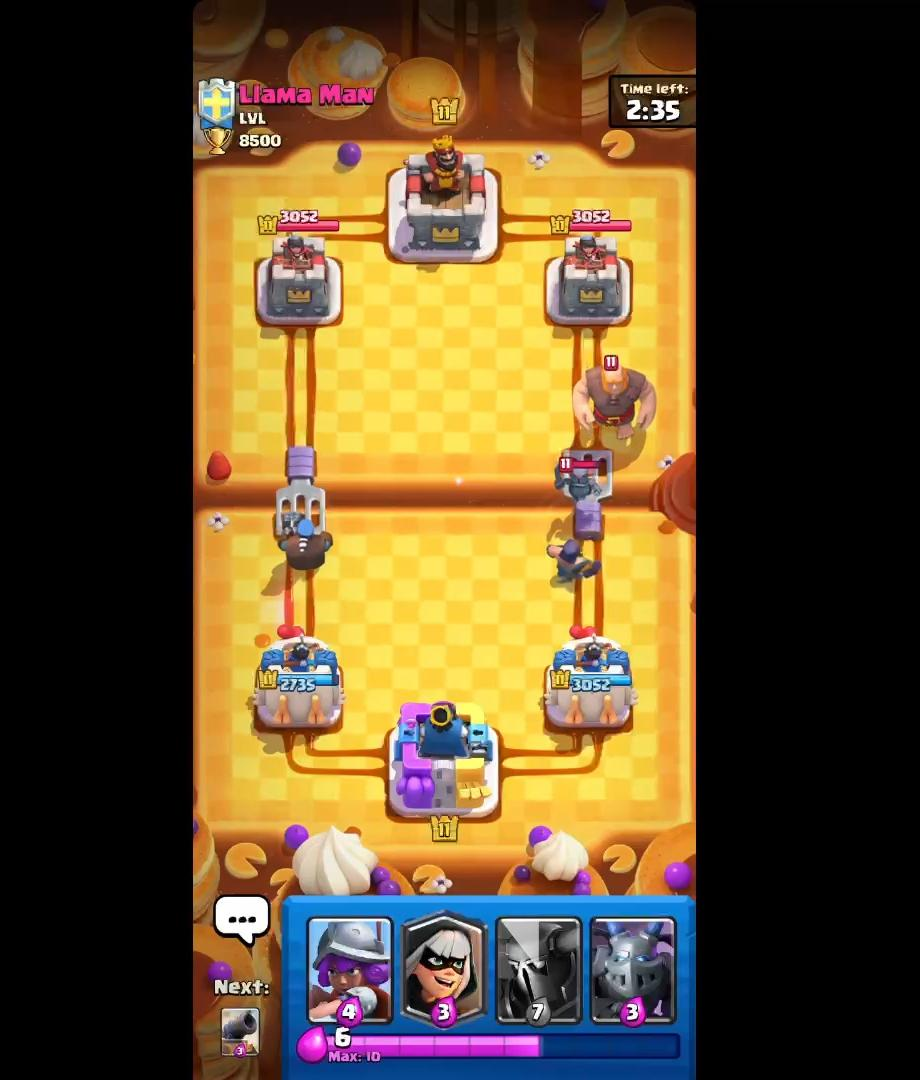Giant: (569, 355, 660, 444)
Mini Pekka: (551, 455, 607, 506)
